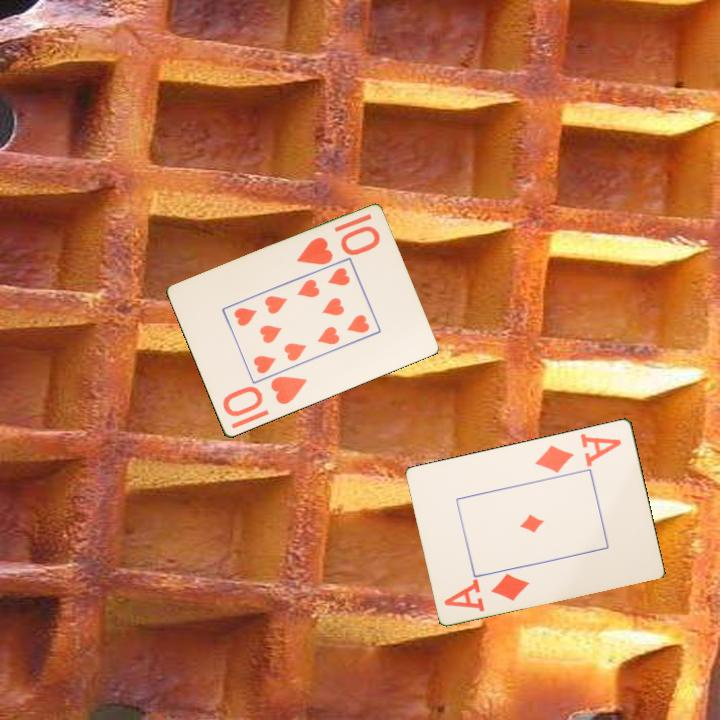10h: (219, 373, 310, 420), (292, 222, 383, 268)
Ad: (532, 429, 625, 475), (441, 569, 533, 615)
